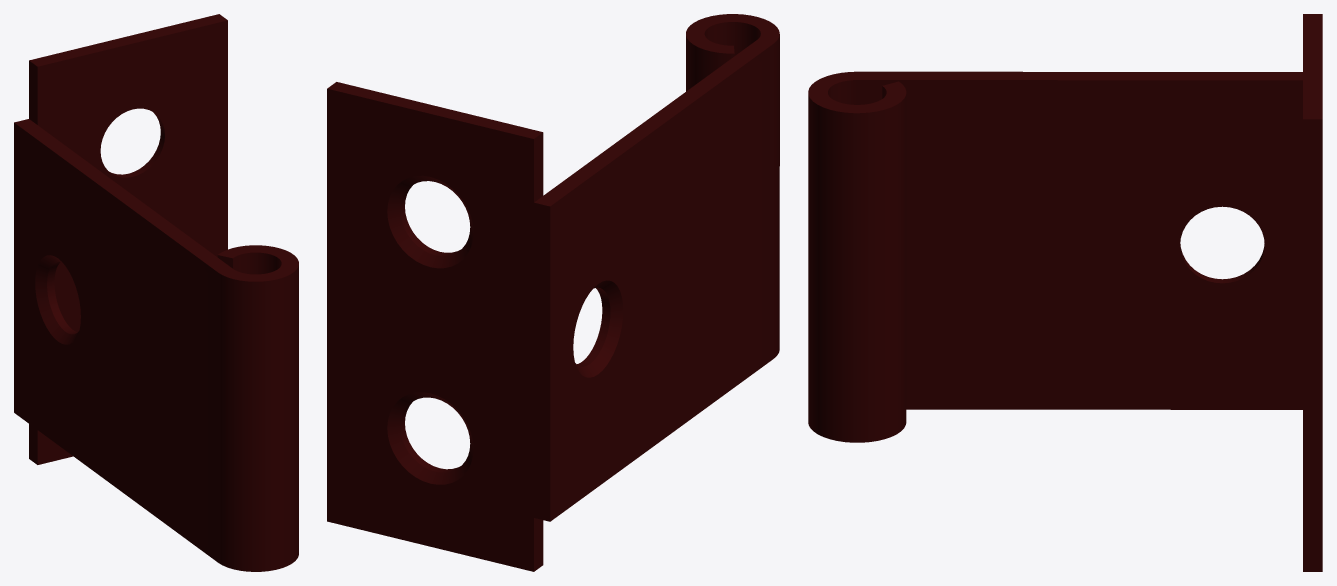
Rendered from original-42.obj.
3 views of the same model, side by side, from view 1: azimuth 30°, elevation 25°; view 2: azimuth 150°, elevation 25°; view 3: azimuth 270°, elevation 25° (orthographic). The views are drawn at different scales.
Visible parts, largest first — view 1: Union3/mesh68/mesh68-geometry#mesh68-geometry; view 2: Union3/mesh68/mesh68-geometry#mesh68-geometry; view 3: Union3/mesh68/mesh68-geometry#mesh68-geometry.
Boxes of the visible parts, x1=… form: Union3/mesh68/mesh68-geometry#mesh68-geometry: x1=14, y1=14, x2=298, y2=571; Union3/mesh68/mesh68-geometry#mesh68-geometry: x1=327, y1=14, x2=779, y2=571; Union3/mesh68/mesh68-geometry#mesh68-geometry: x1=808, y1=14, x2=1322, y2=571.
Bounding box in the file's own units: 0.018 × 0.0333 × 0.0343.
